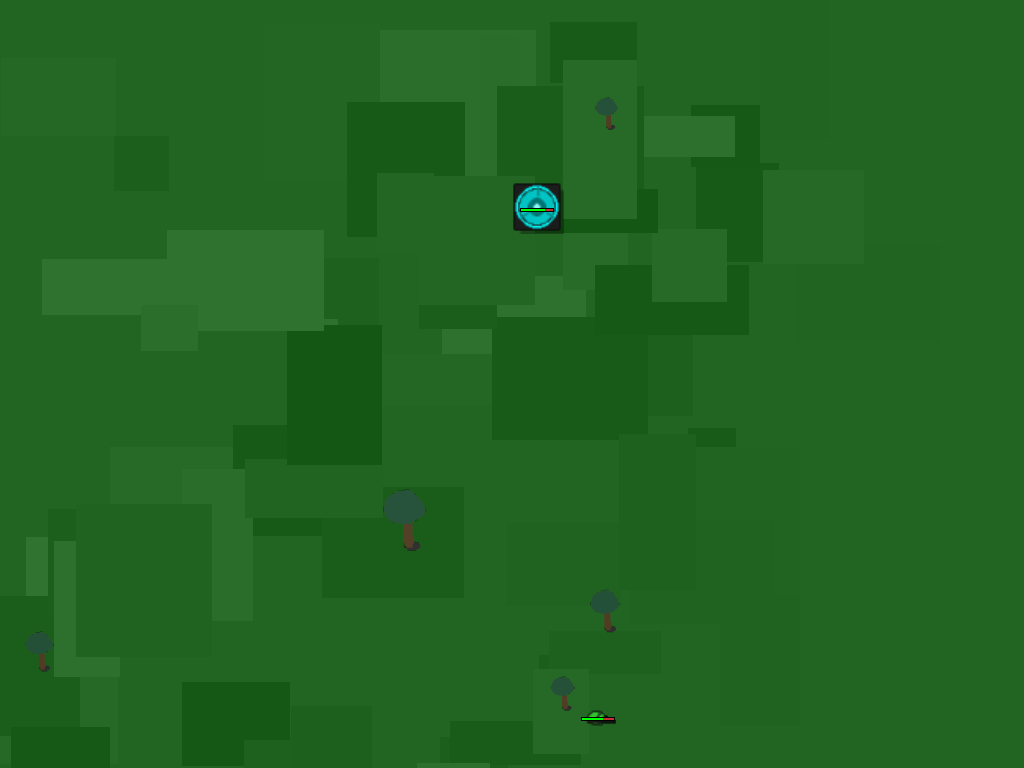AttackPlane_chn: (502, 172, 571, 241)
Sniper: (578, 696, 617, 735)
